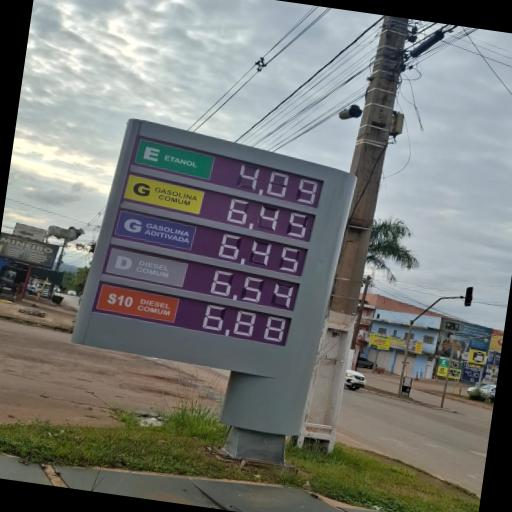S10: (99, 284, 178, 320)
S500: (107, 249, 186, 286)
placa: (79, 122, 354, 364)
preco: (199, 264, 298, 312), (198, 301, 291, 346)
